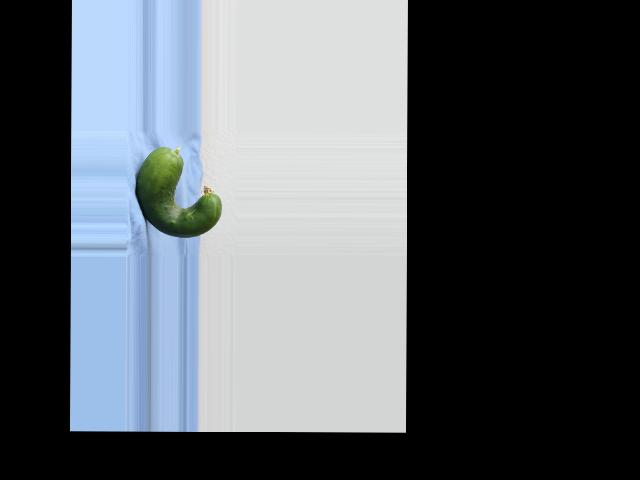cucumber: (135, 146, 222, 237)
